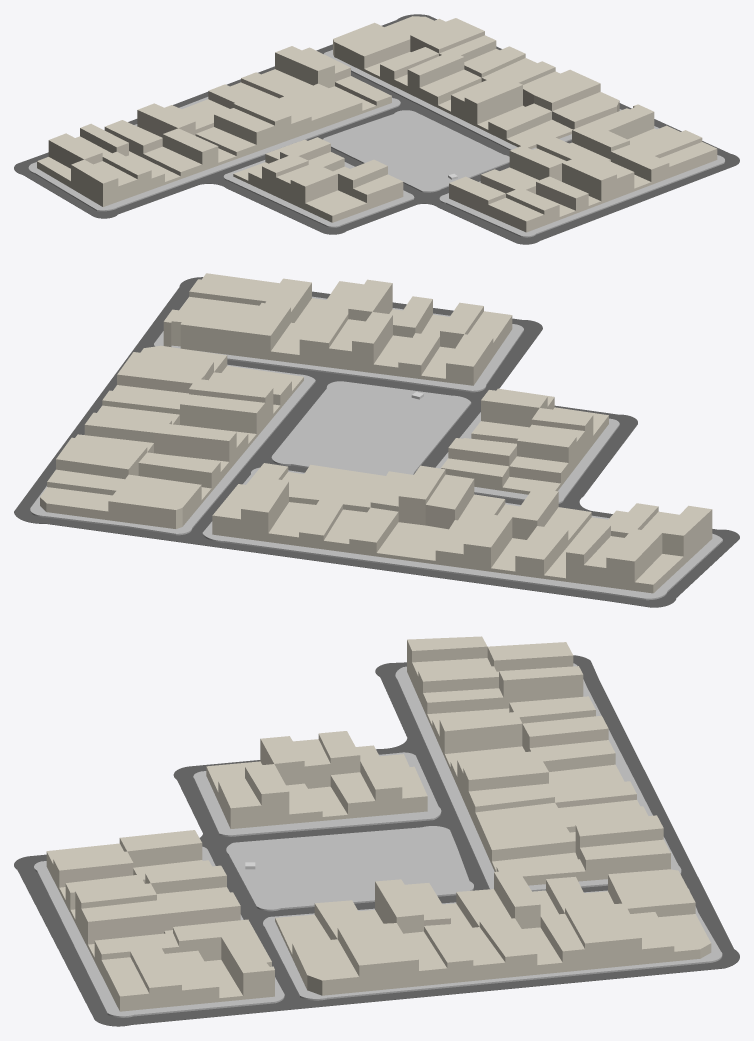
Rendered from legua.glb.
3 renders of one model, top to bottom at view 1: azimuth 30°, elevation 25°; view 2: azimuth 150°, elevation 25°; view 3: azimuth 270°, elevation 25°, orthographic. The views are drawn at different scales.
Visible parts, largest first — view 1: lotes, manzana_vereda, pista; view 2: lotes, manzana_vereda, pista; view 3: lotes, manzana_vereda, pista.
Boxes of the visible parts, x1,y1,x2,y2 form: lotes: (37,16,717,232); manzana_vereda: (28,50,725,237); pista: (14,14,739,244); lotes: (40,273,712,593); manzana_vereda: (30,296,722,600); pista: (14,277,739,607); lotes: (46,636,711,1011); manzana_vereda: (34,663,722,1017); pista: (14,655,739,1026).
Size of the model in its own units: 175 by 8.5 by 145.
